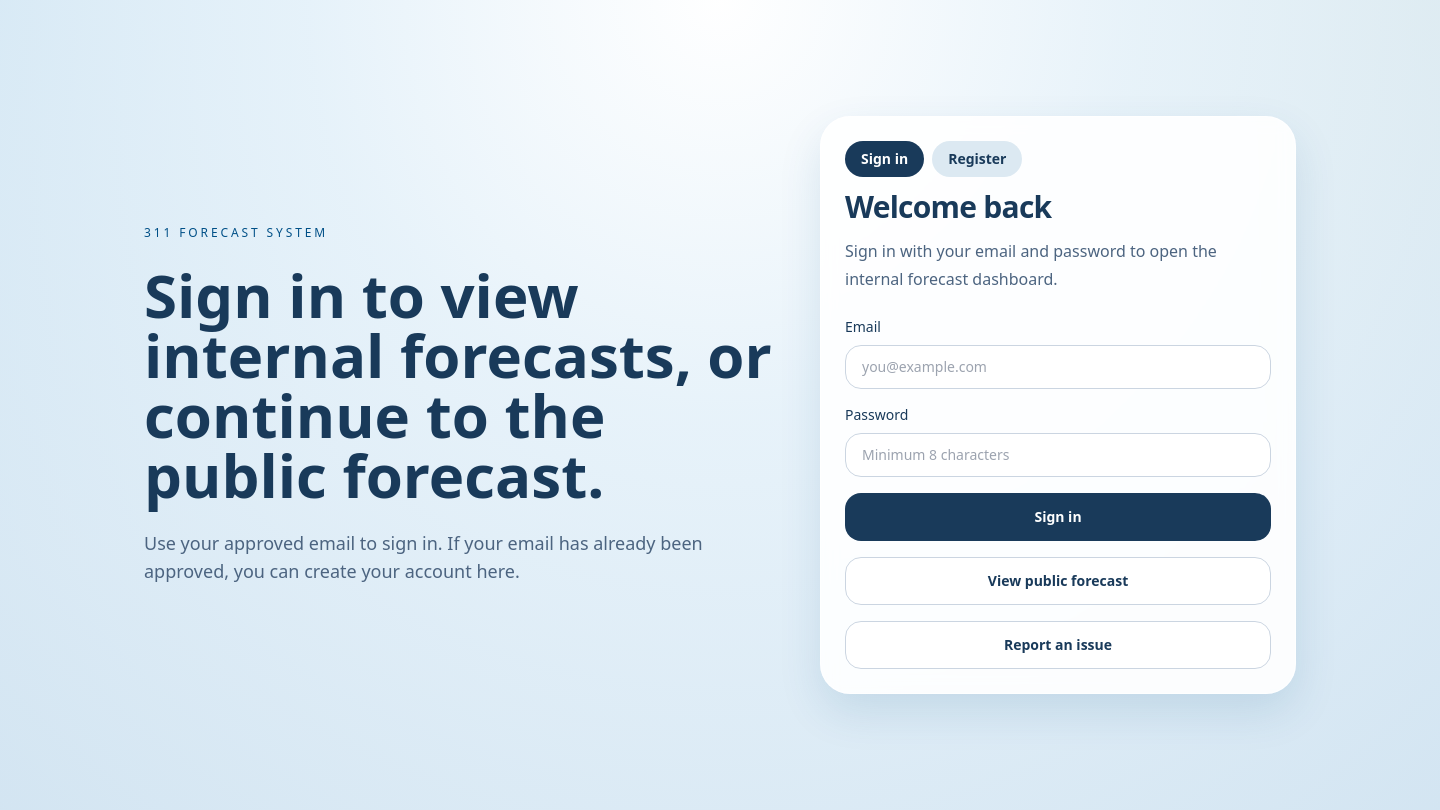
Scenario: App › shows a user-friendly validation error for short passwords
Expected: the heading "Sign in to view internal forecasts" is shown, x1=144 y1=265 x2=788 y2=505
In the field with placeholder "you@example.com": x=1058, y=367 x1=845 y1=345 x2=1271 y2=389, type "planner@example.com"
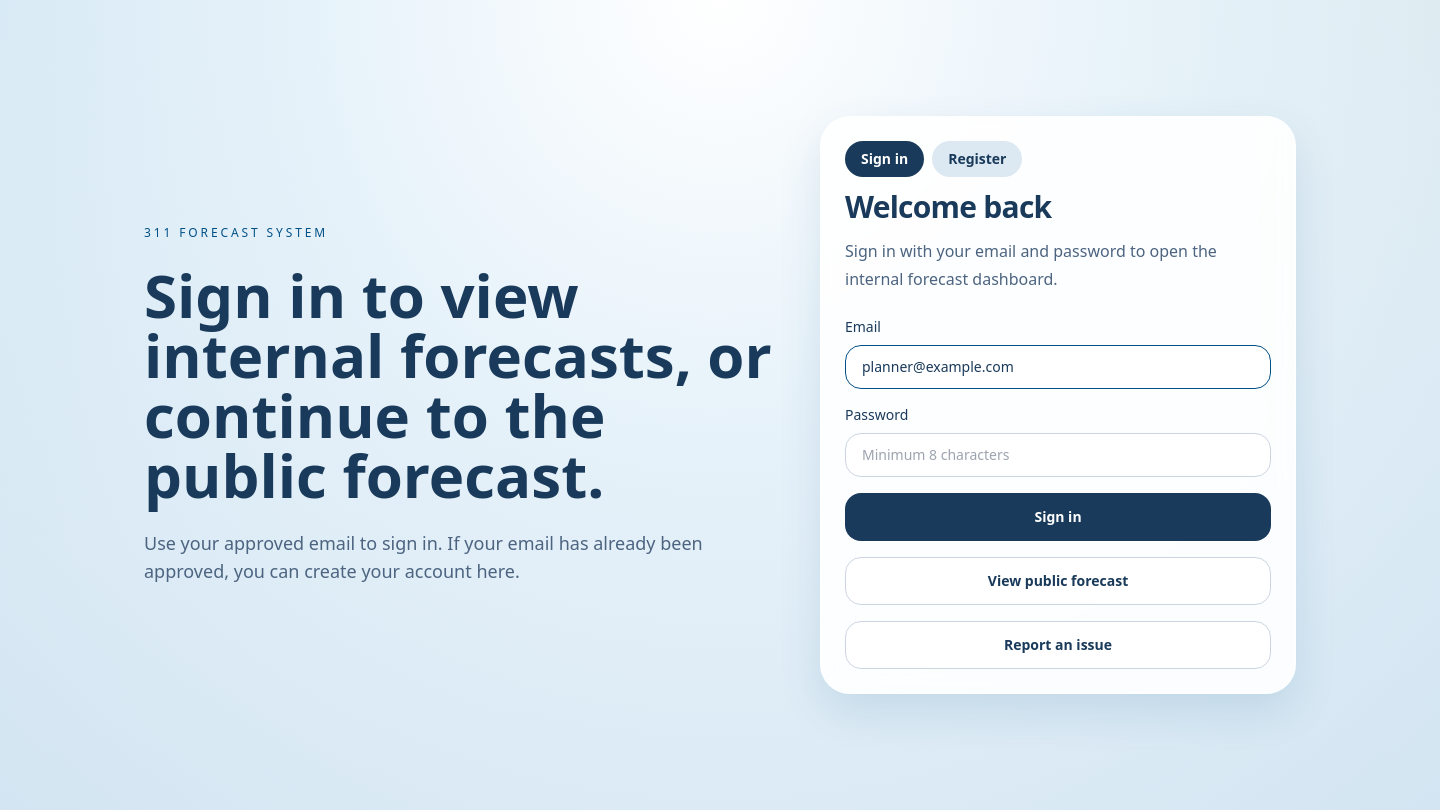
In the password field with placeholder "Minimum 8 characters": x=1058, y=455 x1=845 y1=433 x2=1271 y2=477, type "short"
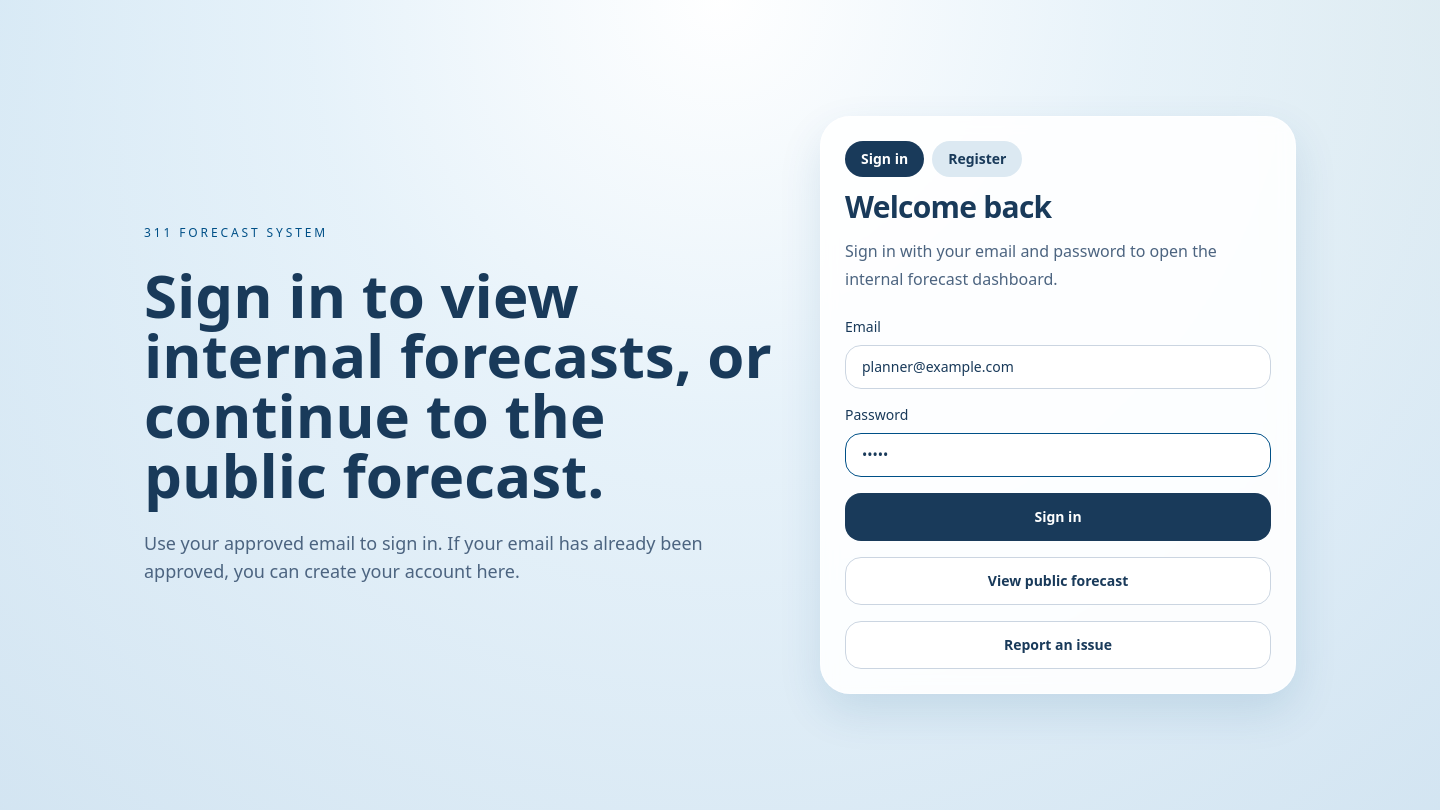
Click the 2nd button "Sign in": x=1058, y=517 x1=845 y1=493 x2=1271 y2=541
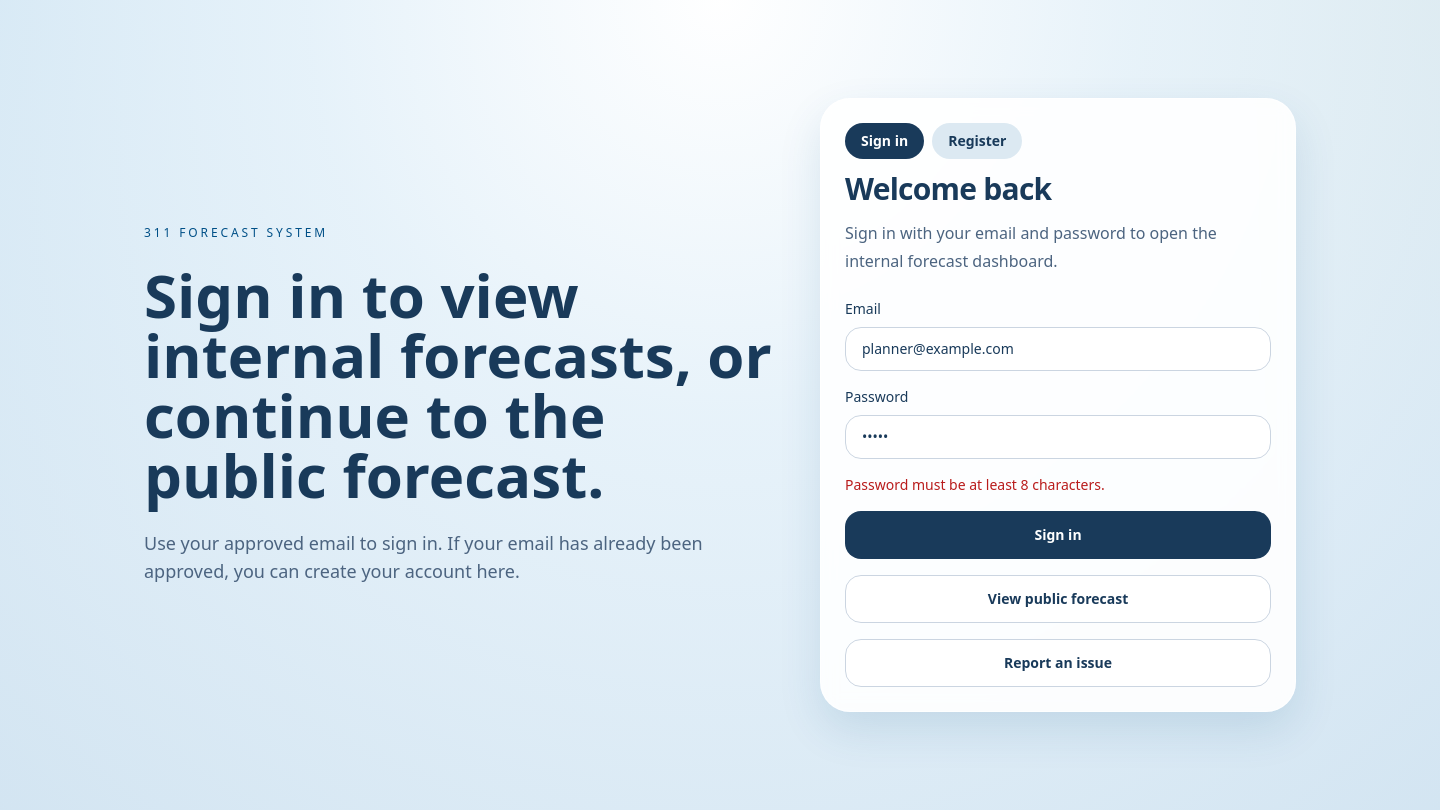
Expected: the text "Password must be at least 8 characters." is shown, x1=845 y1=475 x2=1105 y2=494
